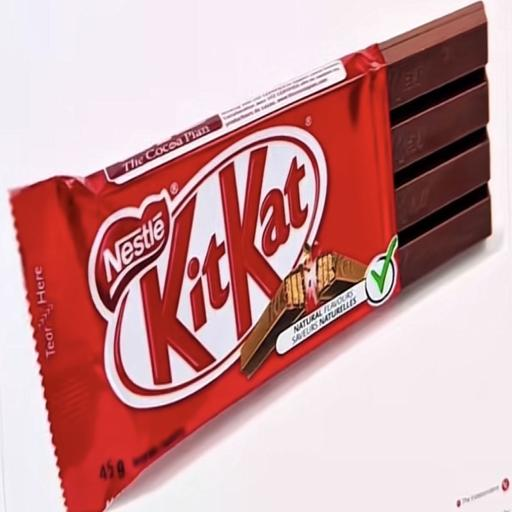kitkat: (0, 113, 434, 478)
